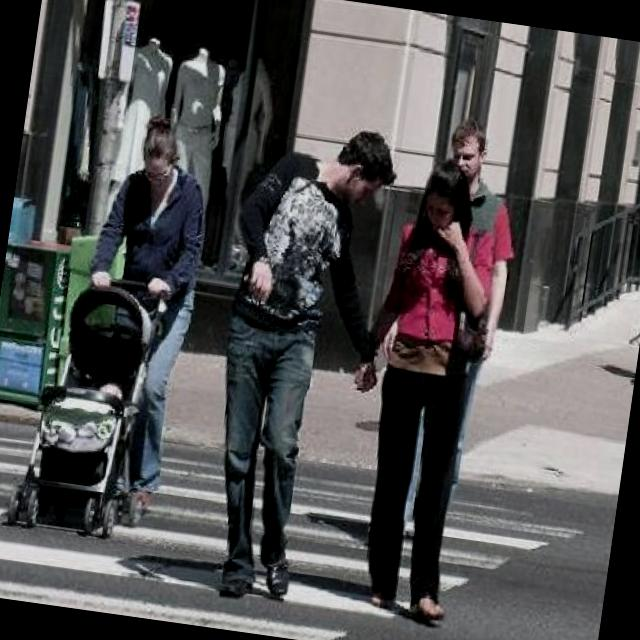Person: (182, 112, 403, 610), (330, 153, 509, 628), (61, 114, 216, 506)
